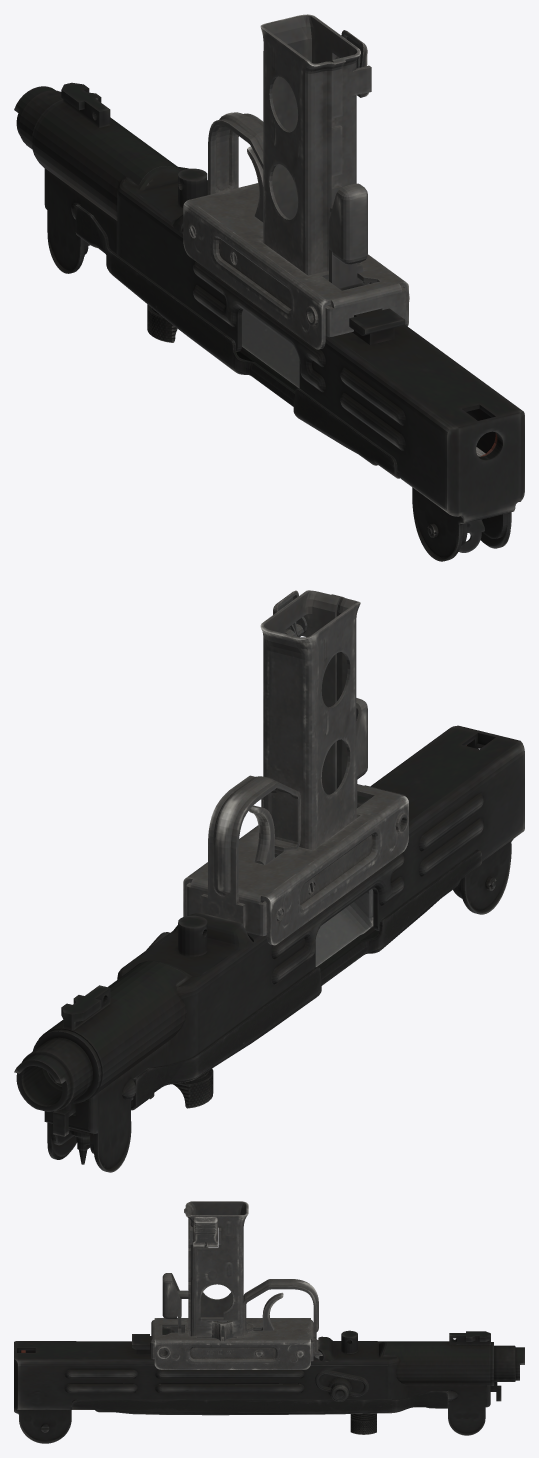
The picture shows the model from 3 angles, top to bottom: view 1: azimuth 30°, elevation 25°; view 2: azimuth 150°, elevation 25°; view 3: azimuth 270°, elevation 25°; orthographic projection. The views are drawn at different scales.
Visible parts, largest first — view 1: TW_66992b349950f5f4cd06029f_PZ_Import; view 2: TW_66992b349950f5f4cd06029f_PZ_Import; view 3: TW_66992b349950f5f4cd06029f_PZ_Import.
Part boxes in pixels (x1,y1,x2,y2): TW_66992b349950f5f4cd06029f_PZ_Import: (14,14,524,561); TW_66992b349950f5f4cd06029f_PZ_Import: (14,590,524,1172); TW_66992b349950f5f4cd06029f_PZ_Import: (14,1201,524,1443).
Size of the model in its own units: 0.0293 by 0.2174 by 0.107.
1 material, 1 textured.
